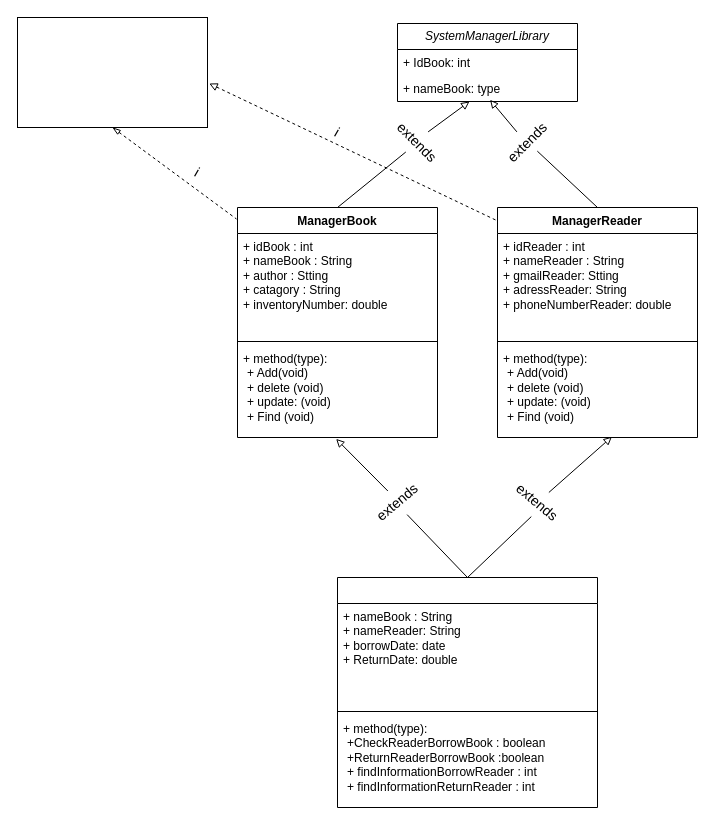
Some shapes in this 715 by 828 pixel diagram are drawn without their labels. The box of each missing label's shape, as (x1, y1, x2, y2) in pixels:
IDesign + Add(void) + delete (void) + update: (void) + Find (void): (16, 16, 208, 128)
ManagerBorrowBook: (336, 576, 598, 808)
